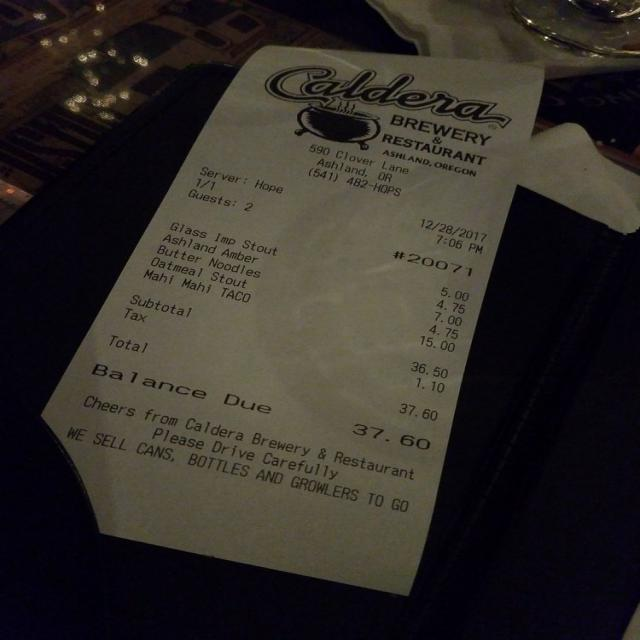TotalPrice: (87, 355, 438, 467)
